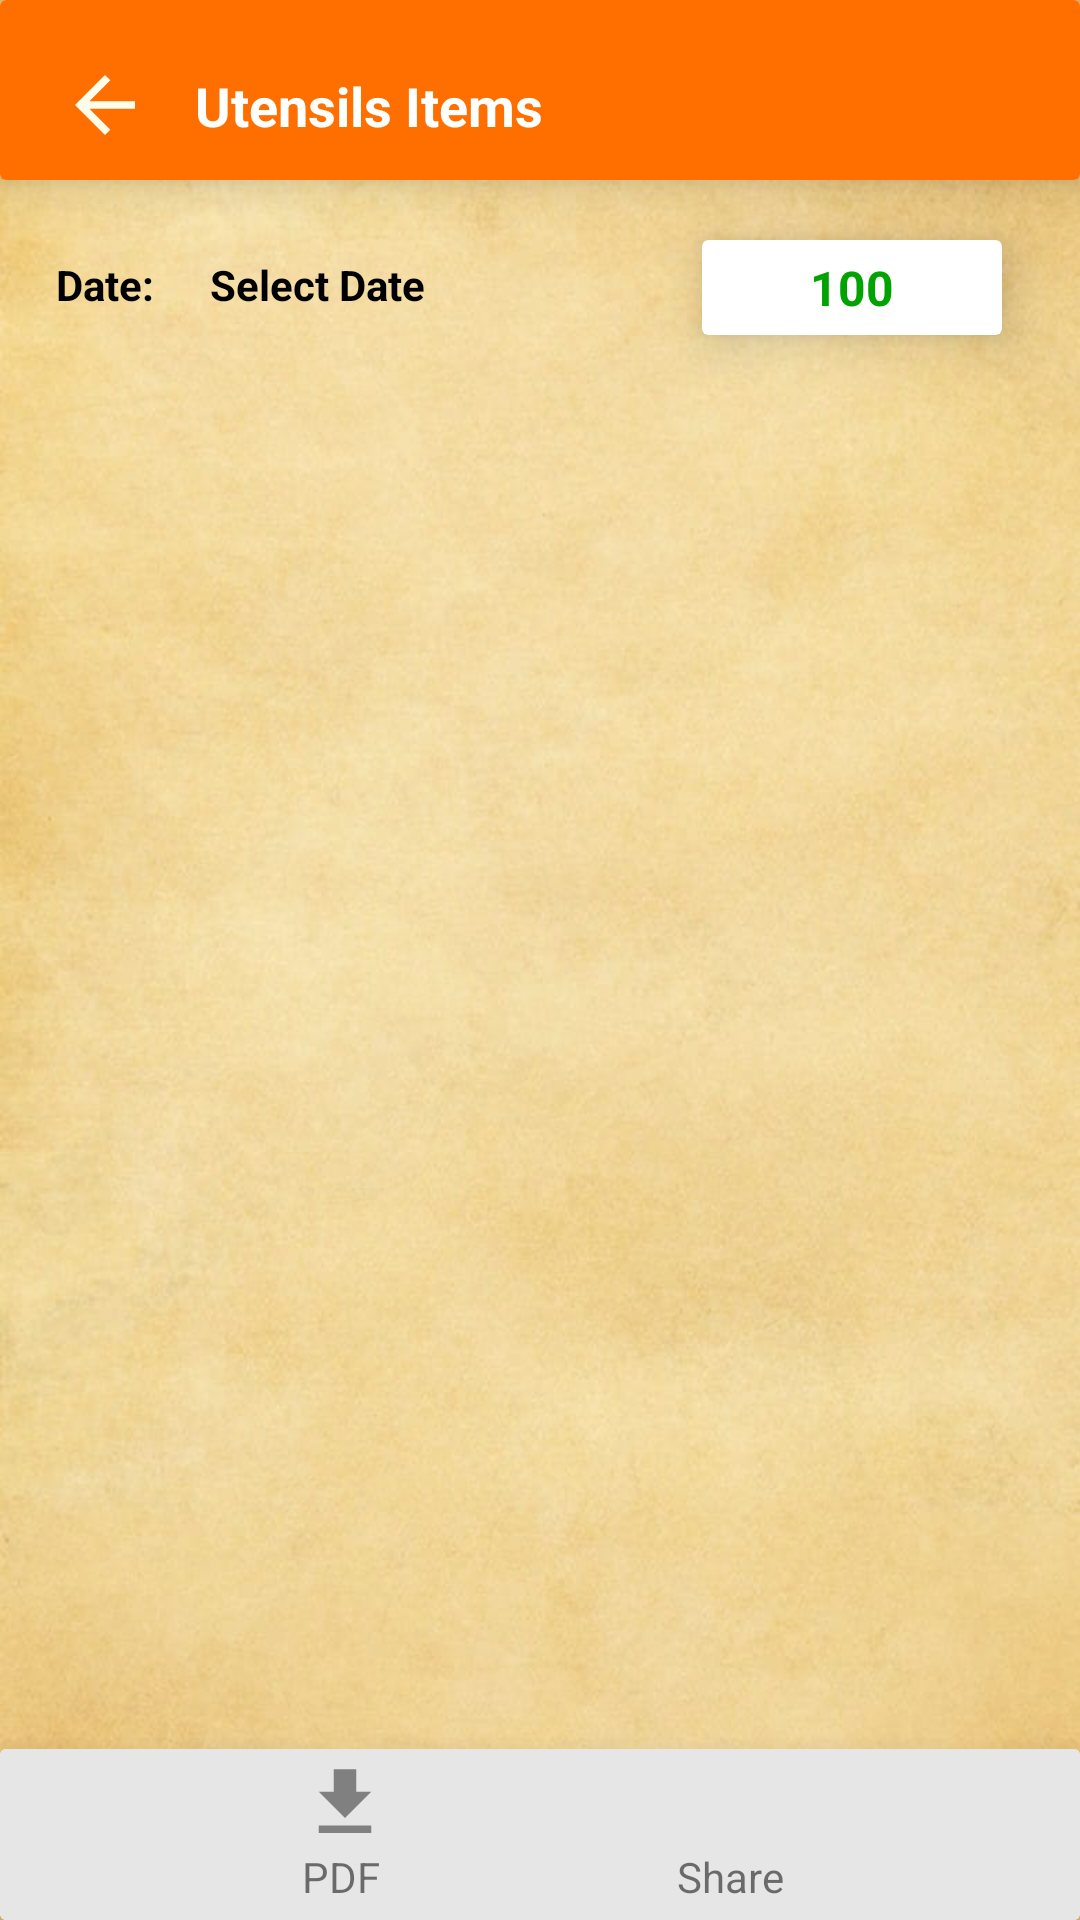

Icon click points for this 1080*1920 phone screenshot, format [x,y]:
arrow back: [105,105]
file download: [345,1801]
